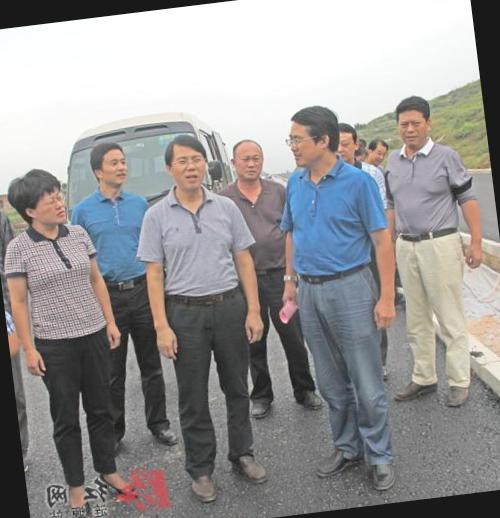no_helmet: (283, 104, 346, 175), (159, 124, 214, 202), (7, 166, 68, 234), (390, 94, 436, 154), (226, 132, 271, 190), (90, 137, 134, 190), (330, 120, 363, 168), (358, 134, 392, 172)
